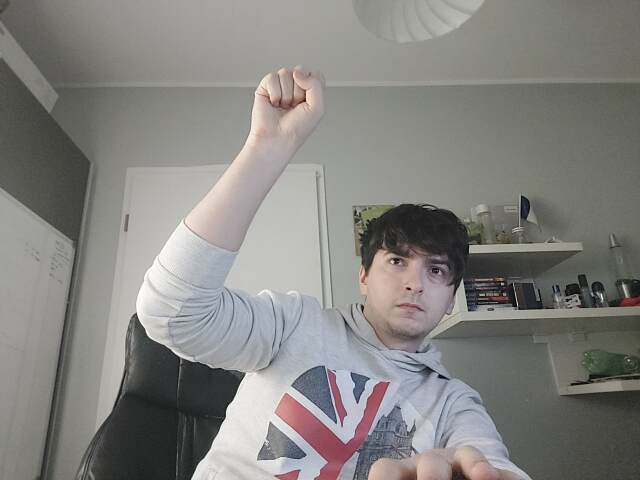yes: (250, 63, 328, 142)
